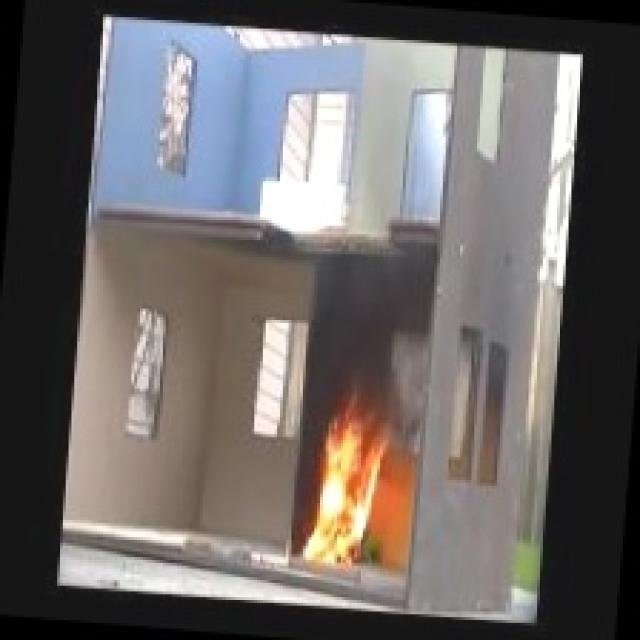fire: (293, 410, 407, 584)
